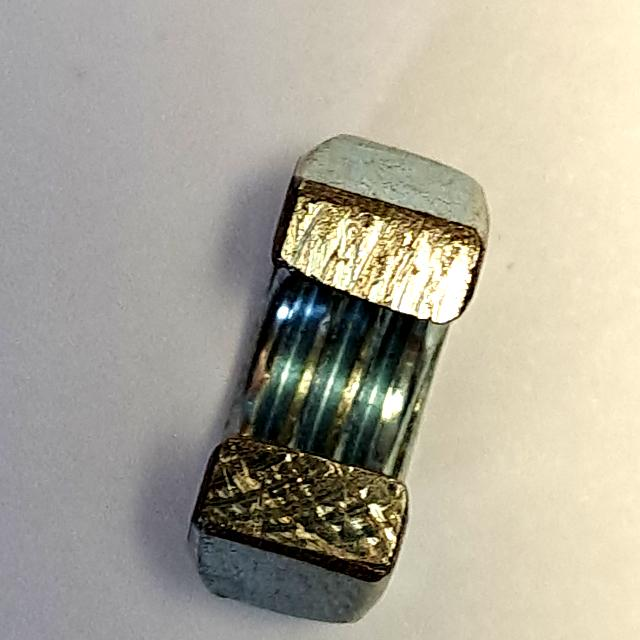Side-Fracture: (177, 122, 503, 639)
